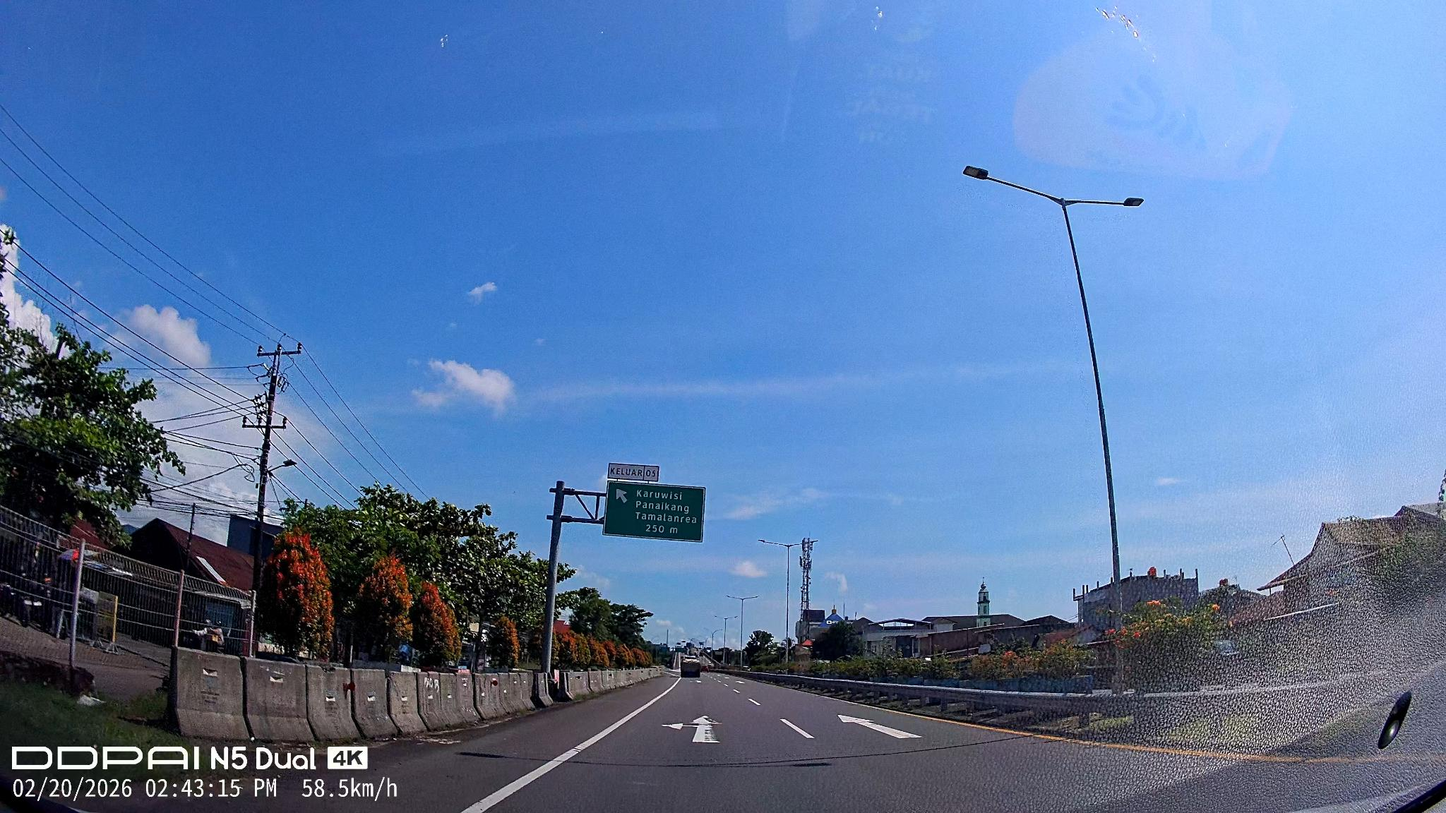rambu_teks: (603, 480, 707, 542)
